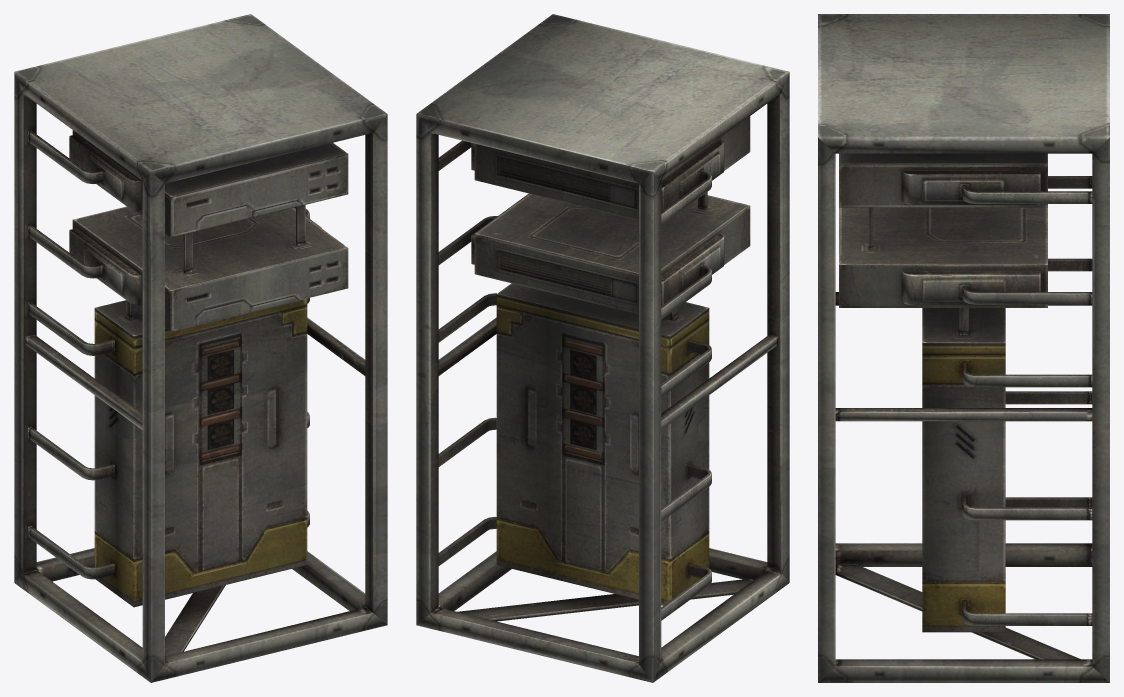
Rendered from server_data_movable.dae.
3 views of the same model, side by side, from view 1: azimuth 30°, elevation 25°; view 2: azimuth 150°, elevation 25°; view 3: azimuth 270°, elevation 25° (orthographic). The views are drawn at different scales.
Parts seen in each view (by area): view 1: server_data_movable; view 2: server_data_movable; view 3: server_data_movable.
Part boxes in pixels (<box>): server_data_movable: <box>14,14,387,682</box>; server_data_movable: <box>416,14,789,682</box>; server_data_movable: <box>818,14,1109,682</box>.
Bounding box in the file's own units: 0.875 × 1.8 × 0.875.
